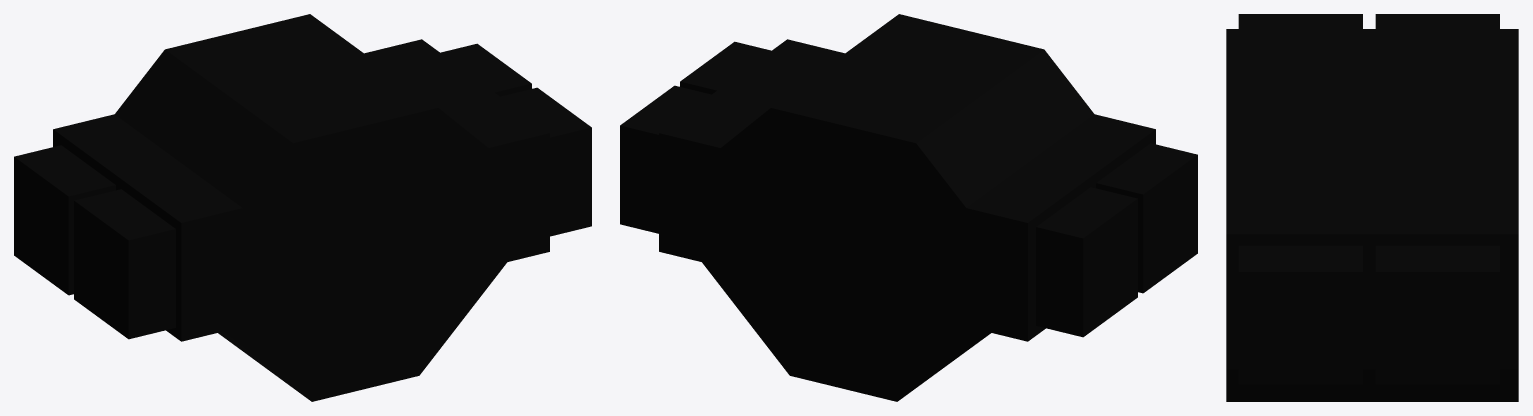
The model's file is v4insolvoauto.obj.
3 views of the same model, side by side, from view 1: azimuth 30°, elevation 25°; view 2: azimuth 150°, elevation 25°; view 3: azimuth 270°, elevation 25° (orthographic). The views are drawn at different scales.
Parts seen in each view (by area): view 1: cube; view 2: cube; view 3: cube.
Boxes of the visible parts, x1=… form: cube: x1=14, y1=14, x2=591, y2=401; cube: x1=620, y1=14, x2=1197, y2=401; cube: x1=1226, y1=14, x2=1518, y2=401.
Size of the model in its own units: 0.9816 by 0.5332 by 0.4706.
